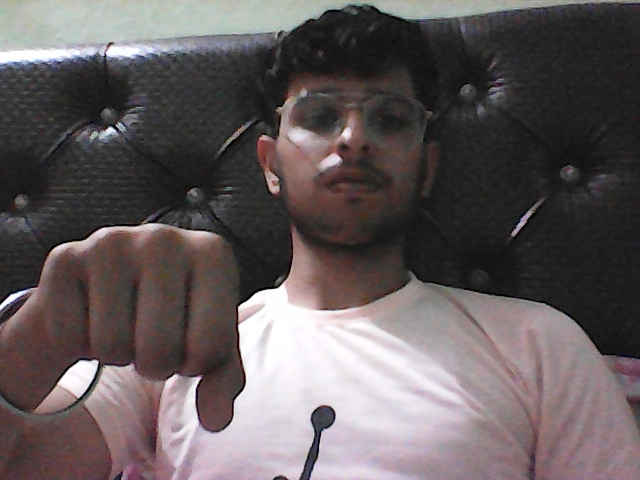yes: (42, 208, 266, 440)
